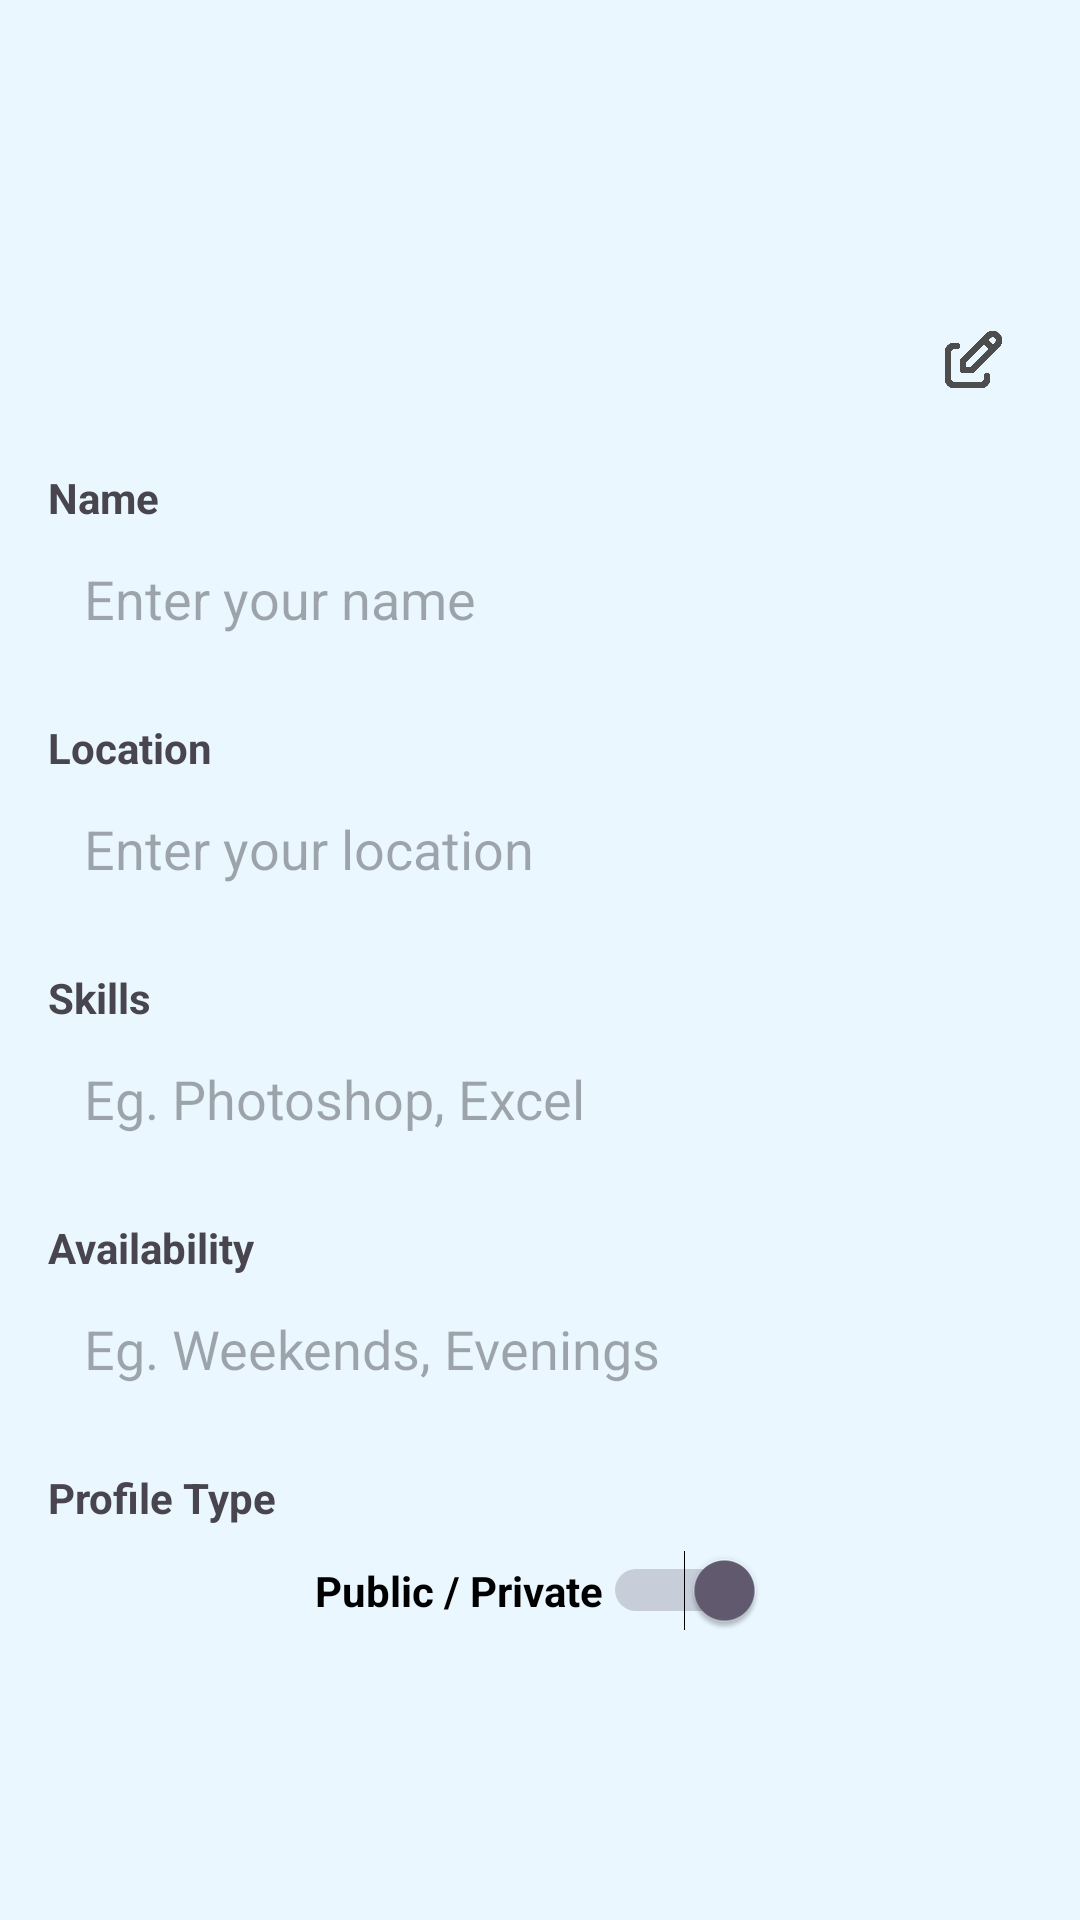

Locate icon controls on the screen. Image size 1080w x 1920h, boxes as (x1, y1, x2, y2).
edit: (945, 331, 1002, 388)
